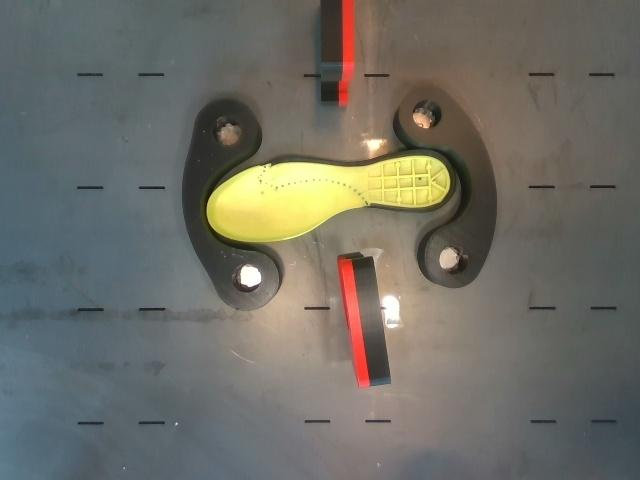shoes: (207, 152, 452, 242)
